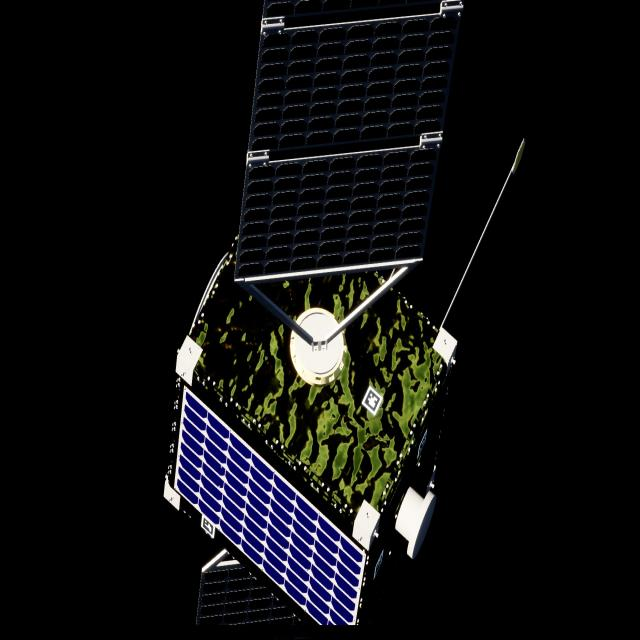medium_debris: (168, 0, 463, 640)
